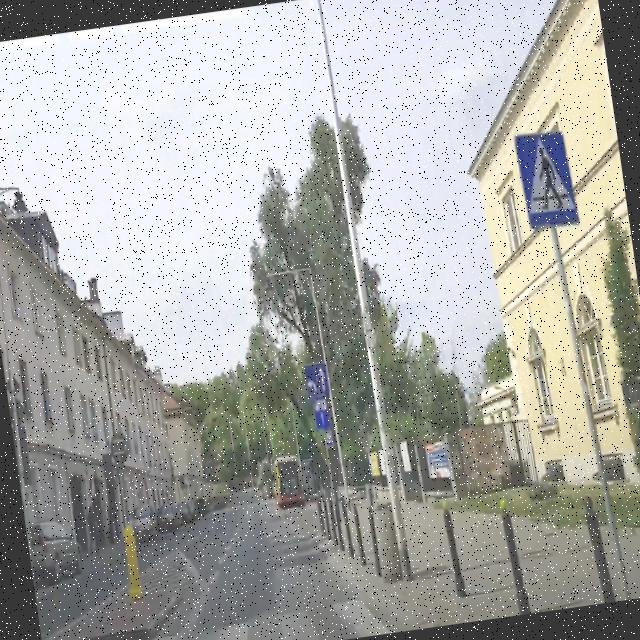Przejscie dla pieszych: (514, 128, 580, 231)
